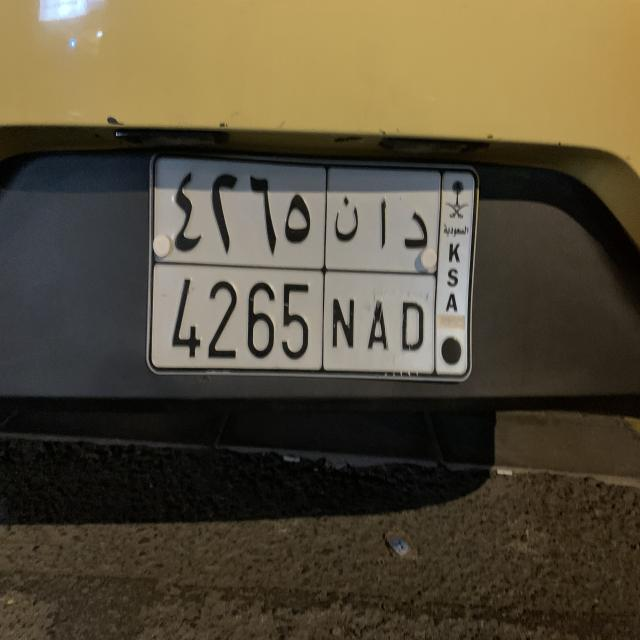license_plate: (144, 146, 481, 388)
